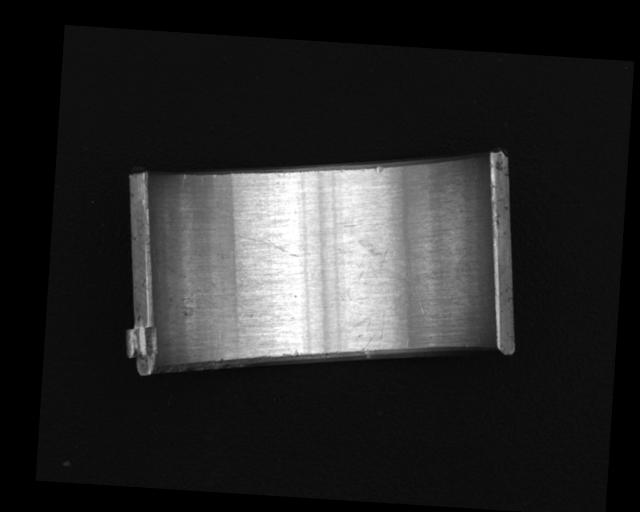blot: (354, 236, 409, 284)
bruise: (375, 165, 384, 174)
nick: (180, 172, 187, 187)
